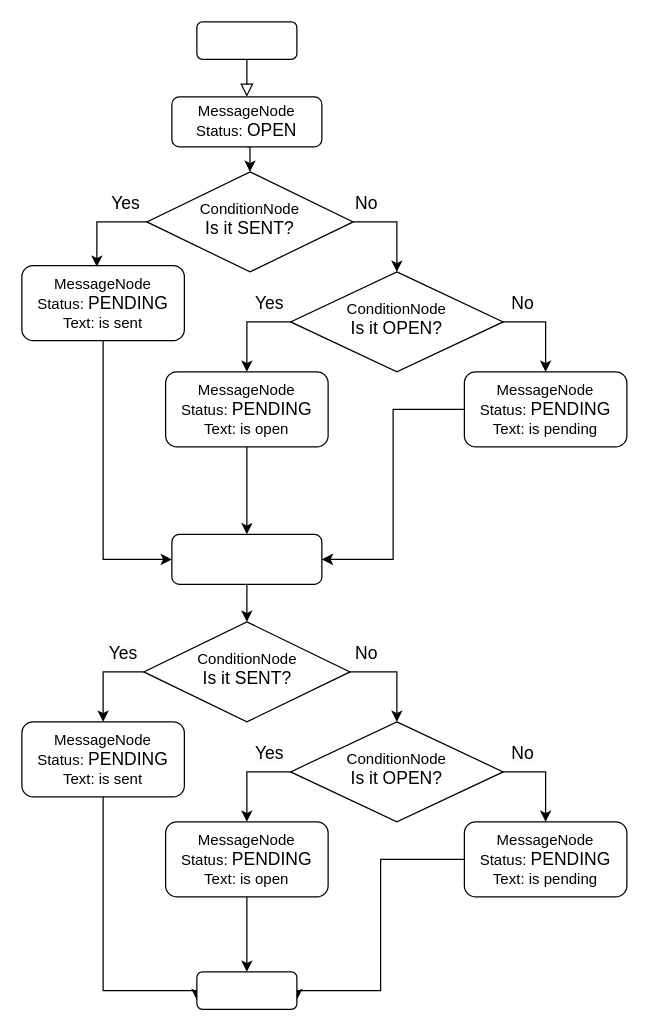
Image size: 649x1033. Some labels were removed from this diagram. The centre of each missing label's shape, as x and y in pixels:
"EndNode" goes at (246,990).
"MessageNode Status: SENT" goes at (246,558).
"StartNode" goes at (246,40).
